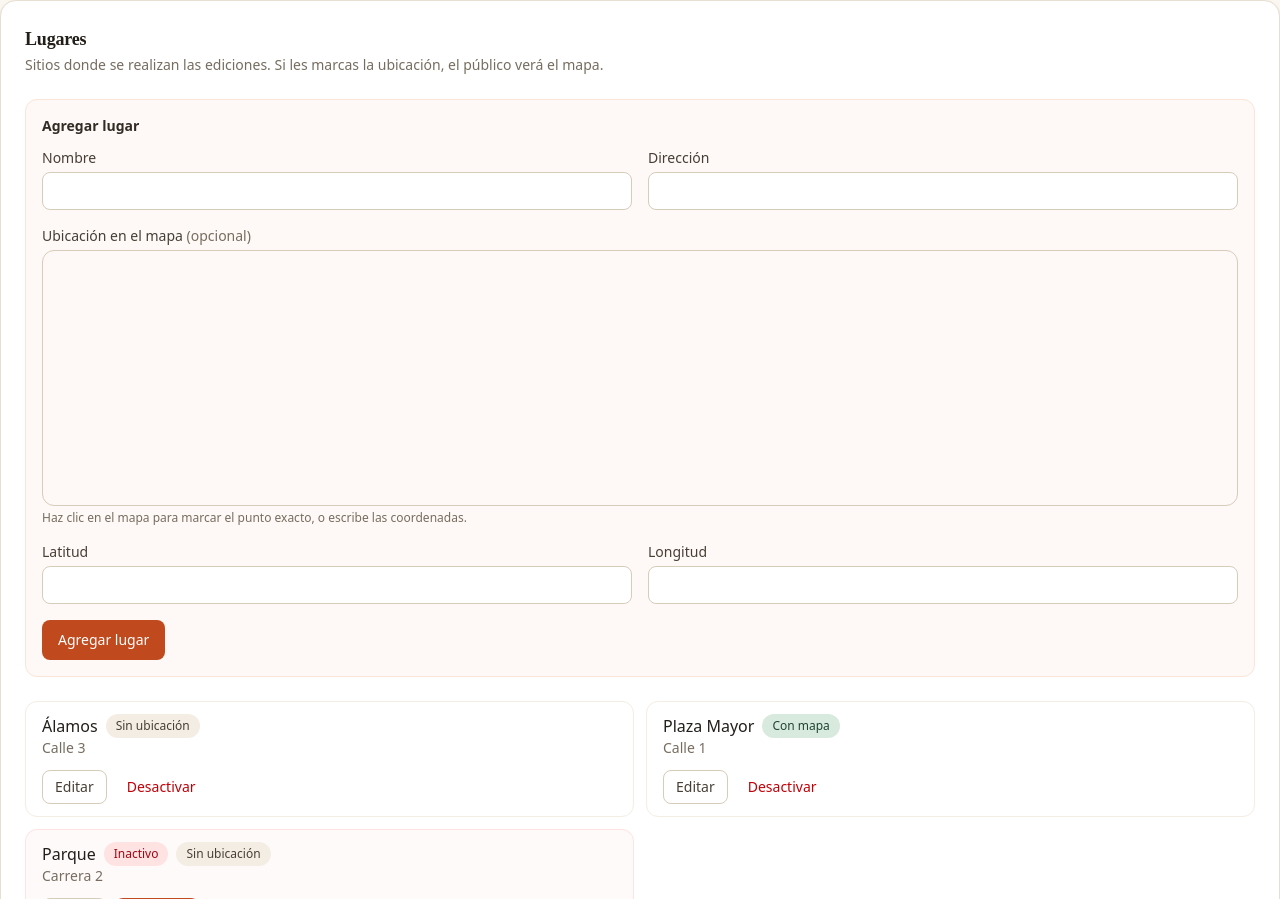
Scenario: GestionLugares: crear › crea el lugar sin ubicación y limpia el formulario
In the field labelled "Nombre": (337, 191) [42,172,632,210], type "  Salón Comunal "
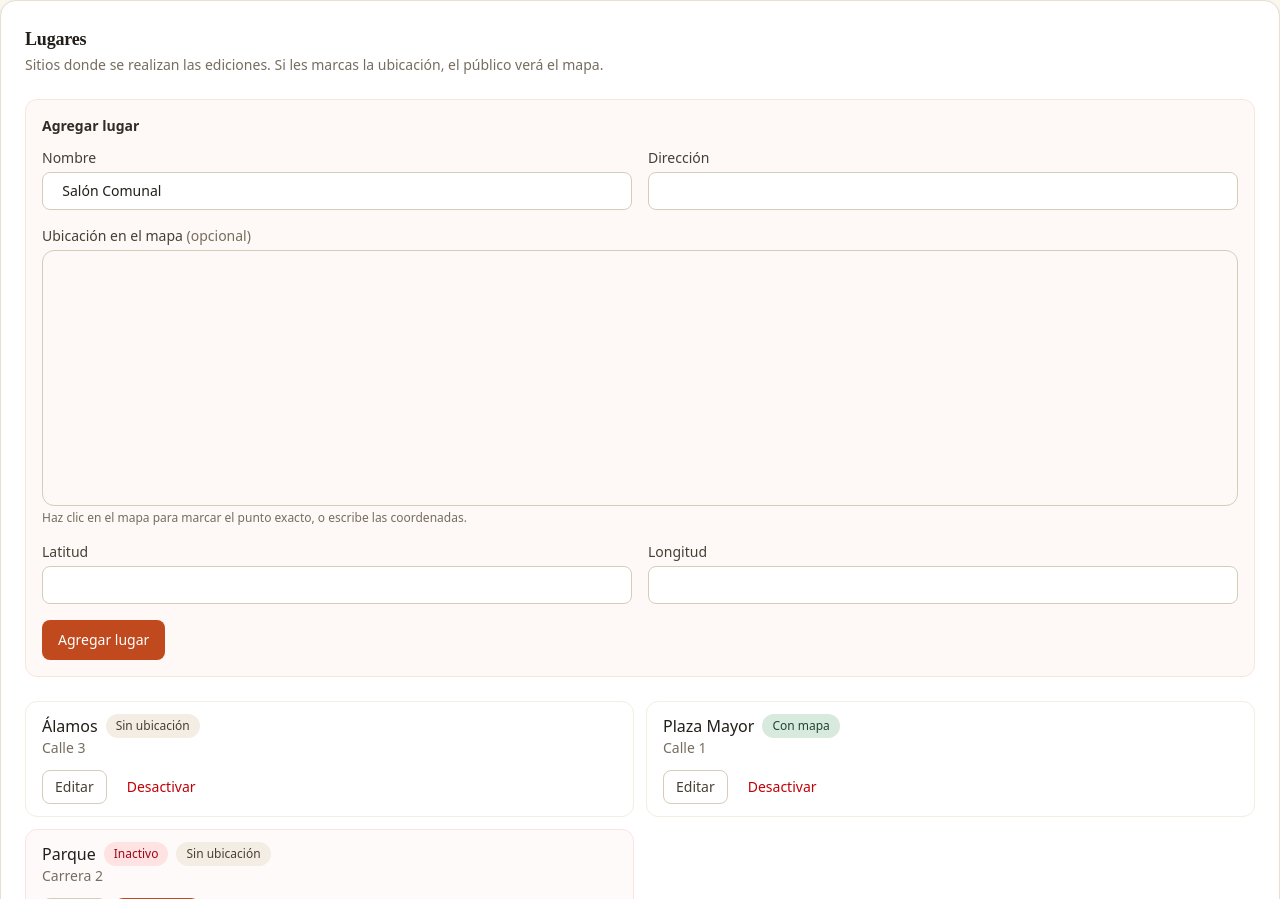
In the field labelled "Dirección": (943, 191) [648,172,1238,210], type " Calle 9 "
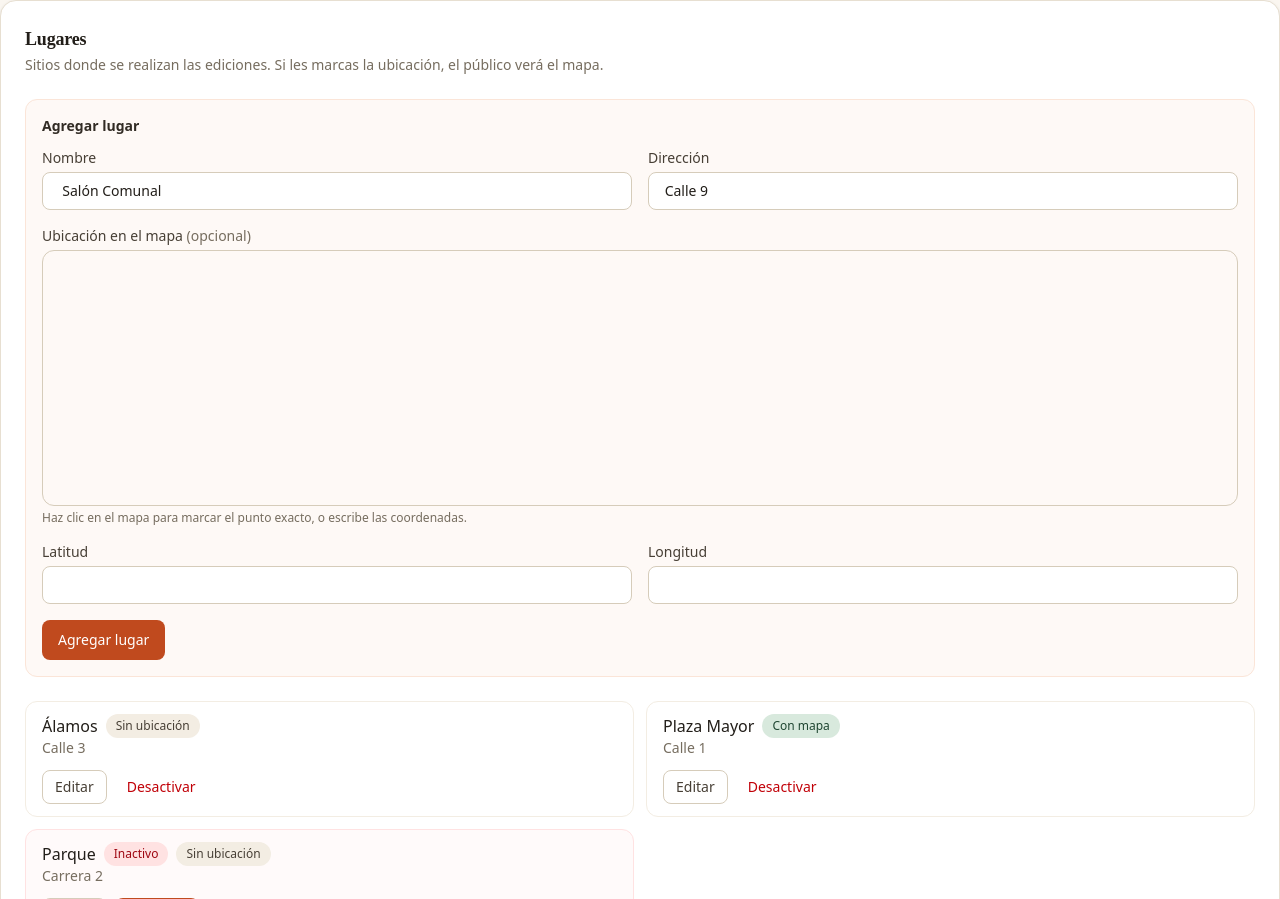
Click the button "Agregar lugar": (104, 640) [42,620,165,660]
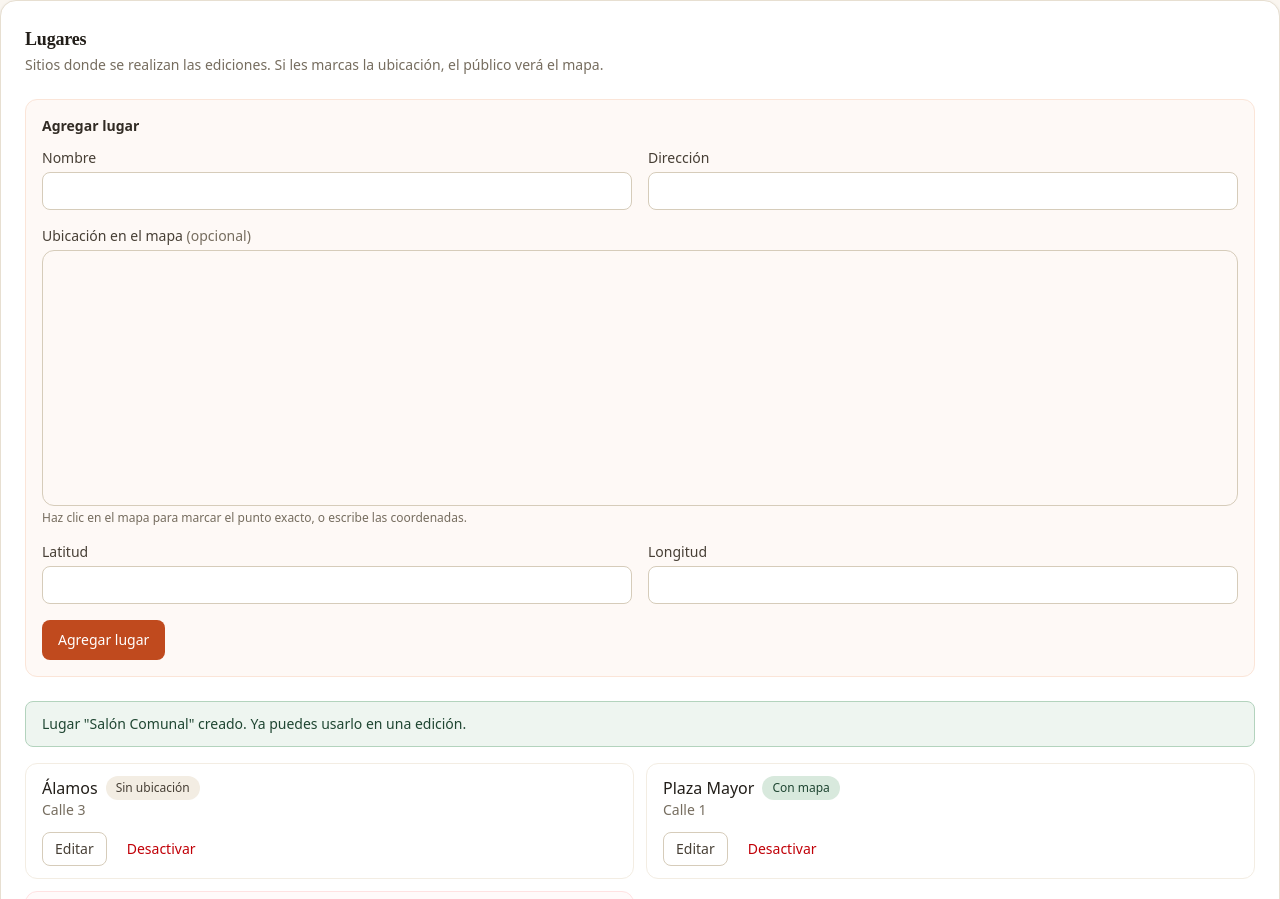
Now the text "Lugar \"Salón Comunal\" creado. Ya puedes usarlo en una edición." is shown, box [25,701,1255,747]
Now the field labelled "Nombre" is empty, box [42,172,632,210]
